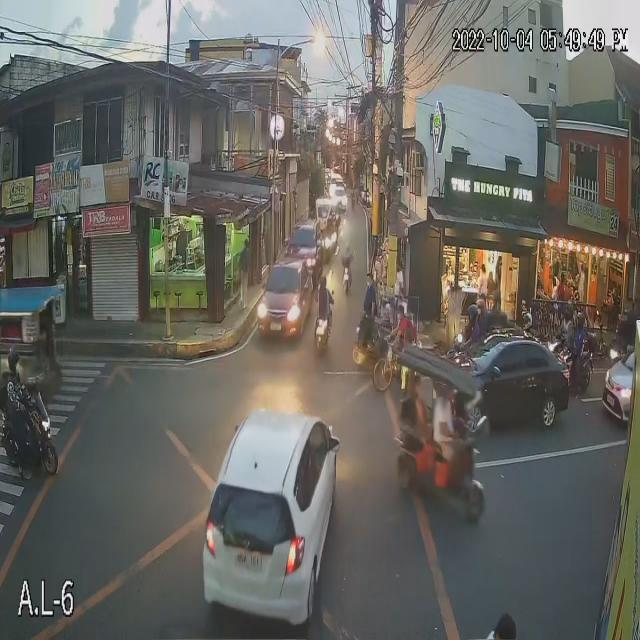helmet: (8, 345, 18, 379), (558, 302, 575, 322), (574, 311, 592, 329), (464, 305, 479, 326), (474, 297, 490, 316), (521, 311, 536, 331), (316, 274, 331, 292), (342, 237, 354, 256)
motorcycle: (0, 393, 56, 483), (554, 347, 592, 393), (306, 309, 331, 358), (338, 267, 352, 300)
rider: (1, 336, 30, 439), (459, 302, 484, 348), (313, 272, 333, 320), (340, 228, 355, 279), (558, 300, 575, 343), (578, 313, 589, 357), (519, 306, 533, 339), (476, 295, 486, 333)
